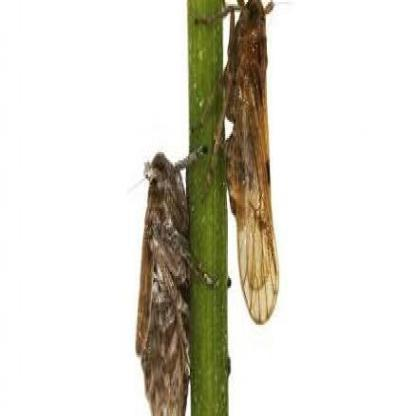brown-planthopper: (221, 2, 280, 325), (136, 157, 190, 412)
